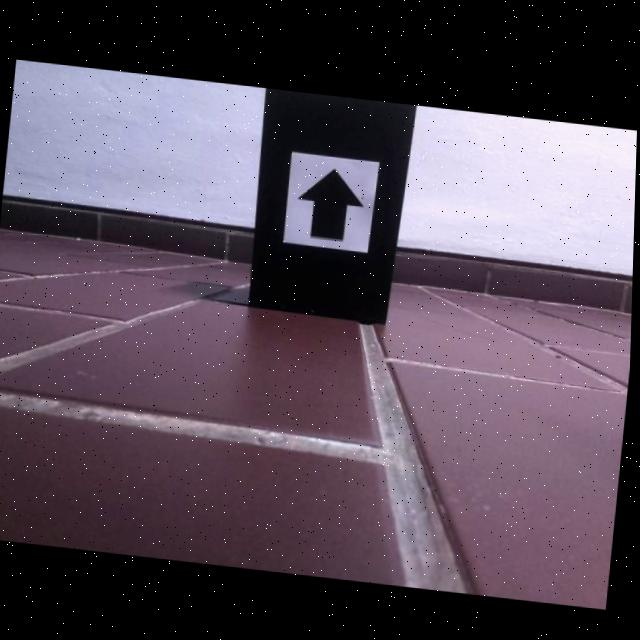UP: (297, 164, 365, 237)
